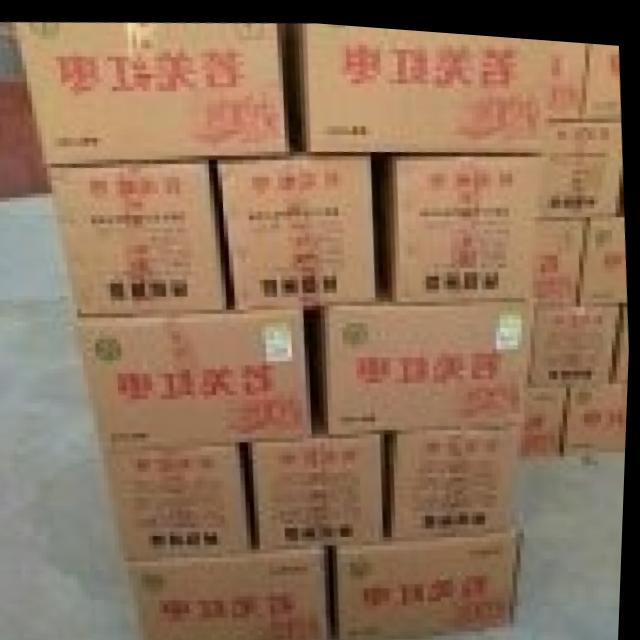box: (9, 18, 295, 164), (76, 298, 321, 456), (288, 19, 548, 146), (310, 292, 538, 429), (48, 156, 235, 313), (374, 144, 548, 293), (217, 145, 379, 305), (334, 499, 525, 634), (126, 536, 340, 640), (108, 439, 261, 553), (246, 424, 390, 539), (389, 415, 529, 529), (531, 292, 629, 376), (540, 110, 622, 205), (568, 368, 630, 446), (536, 204, 587, 295), (582, 208, 629, 294), (524, 374, 573, 446), (547, 32, 588, 113), (583, 34, 620, 112), (610, 293, 631, 369)
